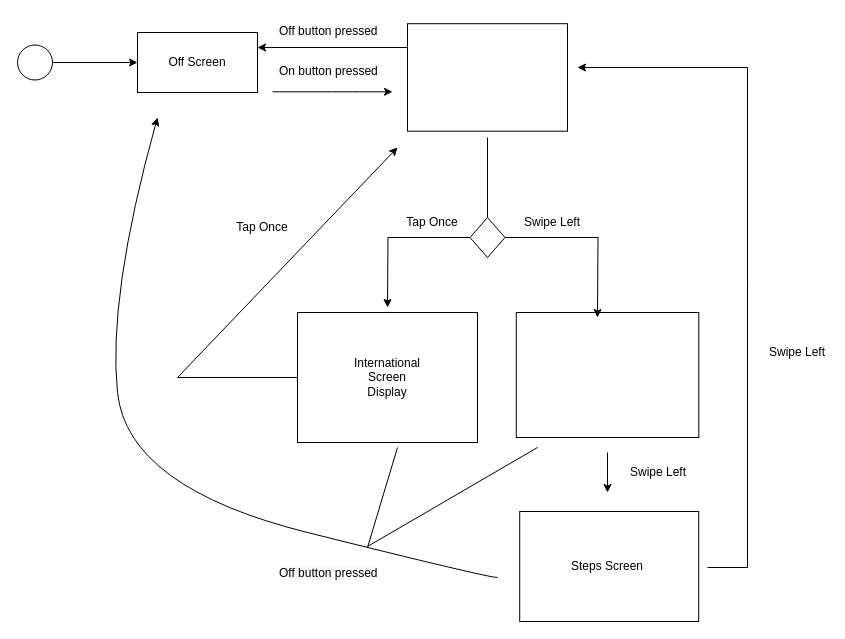
This 845x639 diagram has some shape labels left out. Here are the shapes that lost their labels. From the top down, the centre of each, then its label:
(x=487, y=77): Local Time Clock Screen Display
(x=607, y=375): Heartbeat Screen
